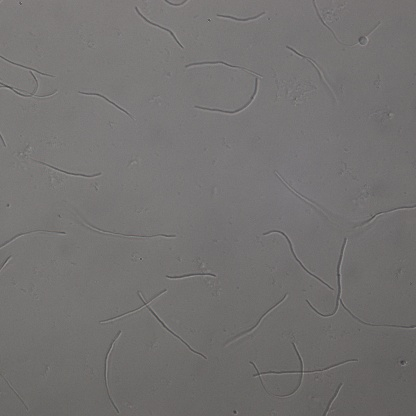Sensitive: (305, 237, 416, 329), (97, 288, 206, 359), (249, 342, 357, 398), (262, 229, 333, 290), (185, 60, 263, 113), (68, 210, 176, 242), (224, 294, 288, 345), (312, 1, 380, 48), (275, 171, 332, 223), (1, 55, 58, 104), (286, 46, 337, 100), (136, 6, 183, 48), (28, 155, 100, 180), (100, 331, 121, 415), (78, 90, 134, 118), (1, 228, 66, 252), (353, 203, 416, 226), (216, 11, 266, 24), (165, 270, 216, 281)
